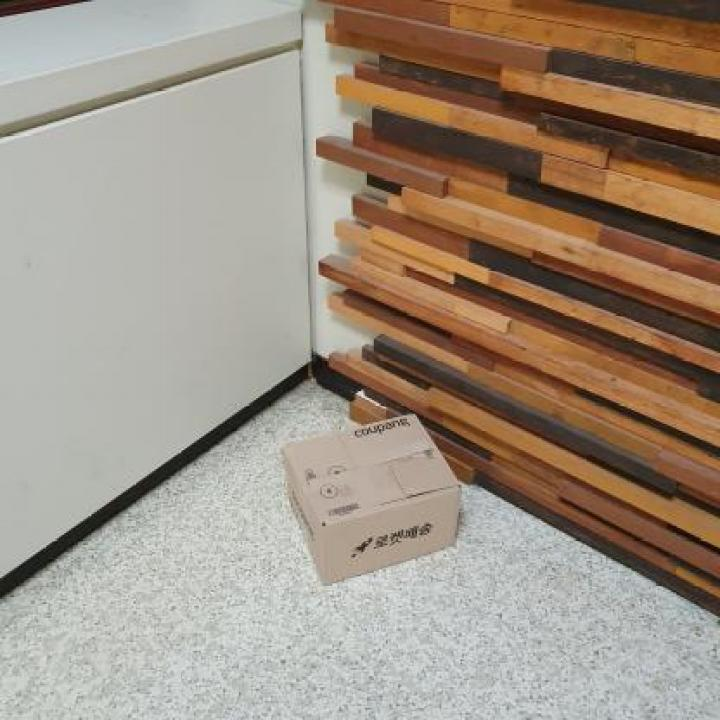box: (255, 407, 482, 590)
